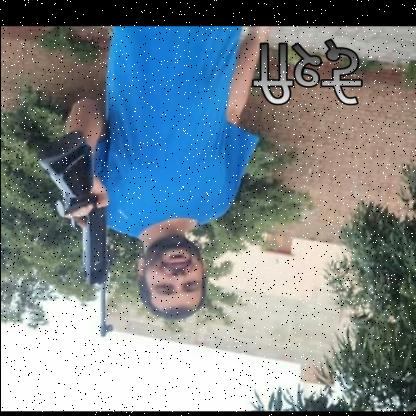rifle: (34, 127, 114, 338)
